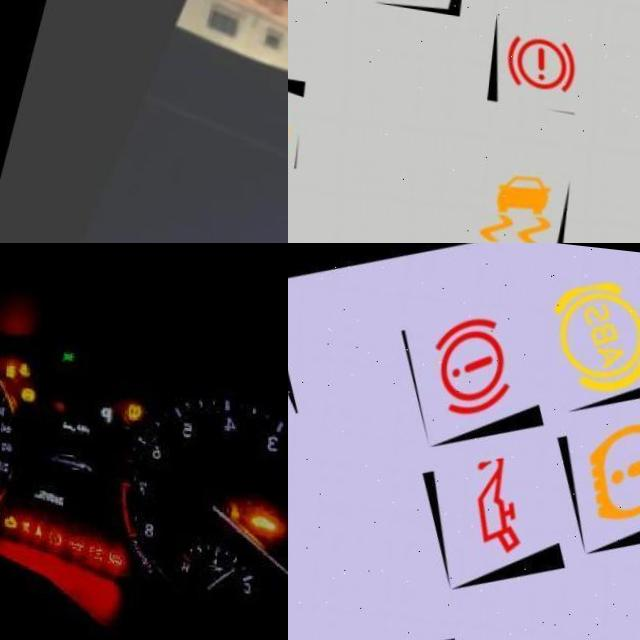Seat Belt: (32, 522, 43, 536)
